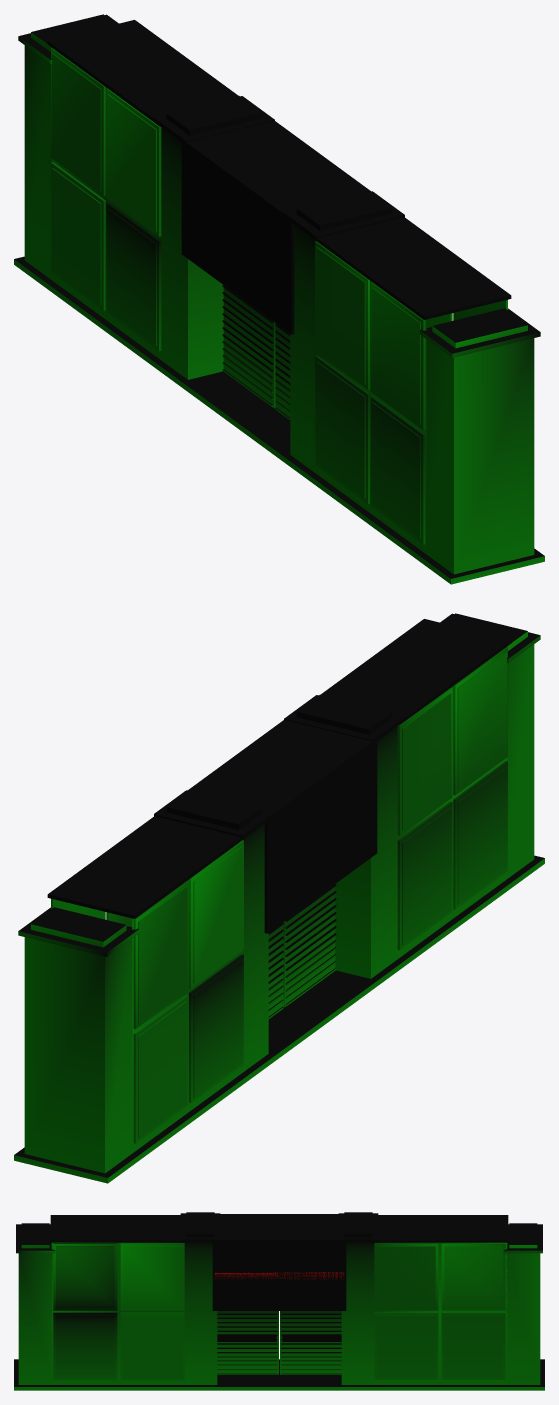
File: d_heavygate.glb
3 renders of one model, top to bottom at view 1: azimuth 30°, elevation 25°; view 2: azimuth 150°, elevation 25°; view 3: azimuth 270°, elevation 25°, orthographic. The views are drawn at different scales.
Parts seen in each view (by area): view 1: lod0, door_l, door_r; view 2: lod0, door_r, door_l; view 3: lod0, door_l, door_r.
Part boxes in pixels (x1,y1,x2,y2): lod0: [14, 14, 544, 584]; door_l: [222, 285, 275, 408]; door_r: [275, 323, 290, 419]; lod0: [14, 613, 544, 1183]; door_r: [283, 884, 336, 1007]; door_l: [268, 922, 283, 1018]; lod0: [14, 1212, 544, 1390]; door_l: [280, 1311, 341, 1374]; door_r: [217, 1311, 278, 1374].
Size of what is drawn, in the model's own units: 7 by 17.98 by 56.4.
